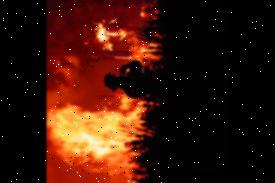fire: (47, 98, 164, 183), (83, 0, 162, 59)
